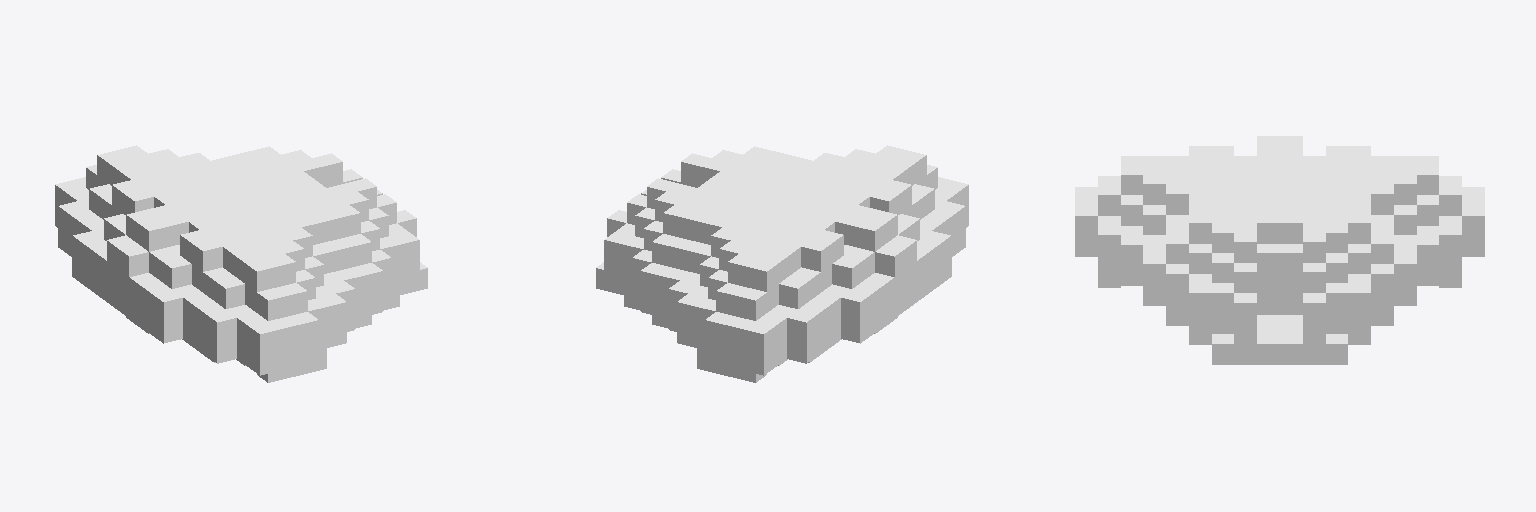
File: TurretTower.obj
3 views of the same model, side by side, from view 1: azimuth 30°, elevation 25°; view 2: azimuth 150°, elevation 25°; view 3: azimuth 270°, elevation 25° (orthographic).
Parts seen in each view (by area): view 1: object 1; view 2: object 1; view 3: object 1.
Part boxes in pixels (x1,y1,x2,y2): object 1: (55,145,427,382); object 1: (596,145,968,382); object 1: (1075,136,1484,364).
Bounding box in the file's own units: 1.4 × 0.6 × 1.8.